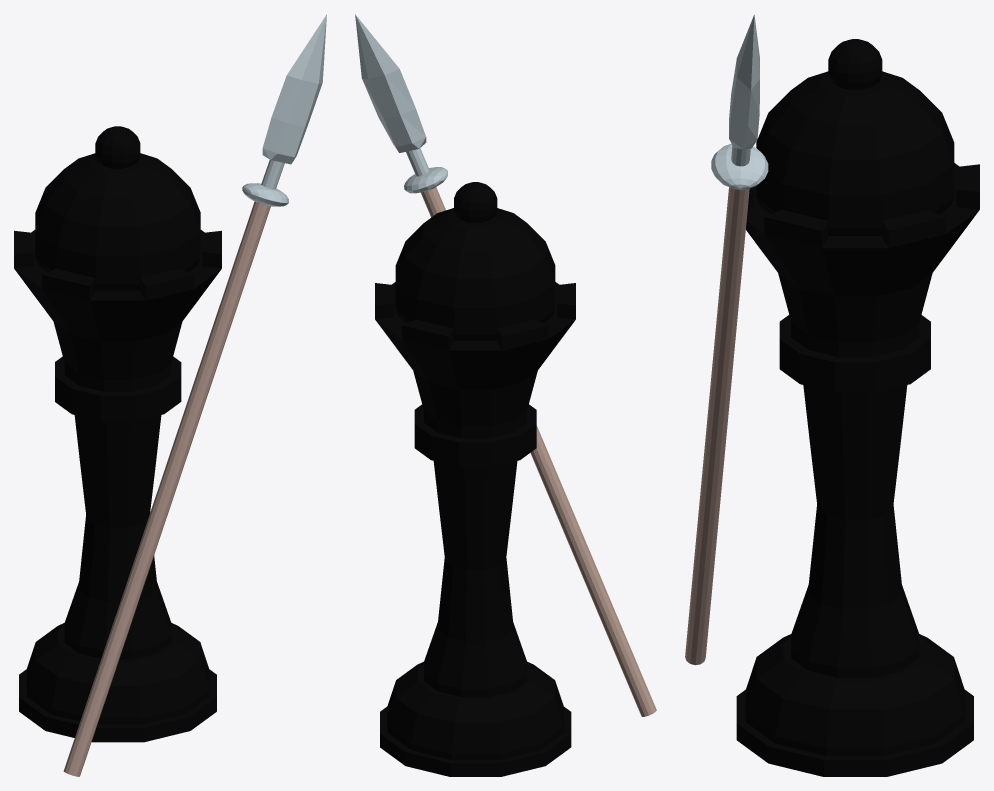
Rendered from pike_white.glb.
The picture shows the model from 3 angles, left to right: view 1: azimuth 30°, elevation 25°; view 2: azimuth 150°, elevation 25°; view 3: azimuth 270°, elevation 25°; orthographic projection. The views are drawn at different scales.
Visible parts, largest first — view 1: node_MeshObject-54216640-PolyPaper23, Empty; view 2: node_MeshObject-54216640-PolyPaper23, Empty; view 3: node_MeshObject-54216640-PolyPaper23, Empty.
Part boxes in pixels (<box>): node_MeshObject-54216640-PolyPaper23: <box>14,126,221,742</box>; Empty: <box>63,14,326,776</box>; node_MeshObject-54216640-PolyPaper23: <box>375,182,575,776</box>; Empty: <box>355,14,656,716</box>; node_MeshObject-54216640-PolyPaper23: <box>736,39,979,776</box>; Empty: <box>685,14,768,665</box>.
Bounding box in the file's own units: 0.2097 × 0.4731 × 0.156.
